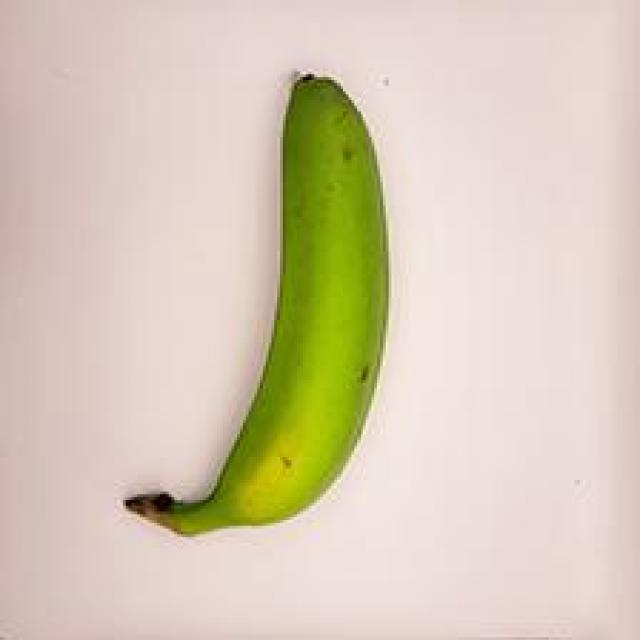Unripe: (112, 55, 421, 556)
